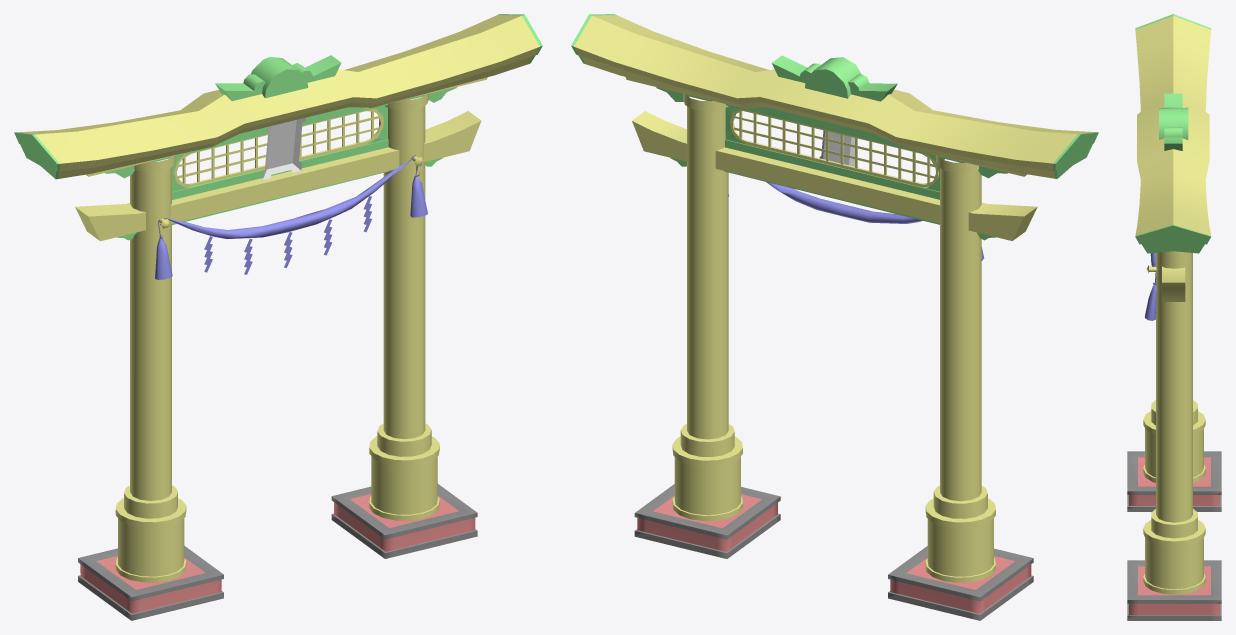
The model's file is SM_ENV_LKNVLD_Torii_Sun_Lod2.gltf.
3 renders of one model, left to right at view 1: azimuth 30°, elevation 25°; view 2: azimuth 150°, elevation 25°; view 3: azimuth 270°, elevation 25°, orthographic. The views are drawn at different scales.
Parts seen in each view (by area): view 1: SM_ENV_LKNVLD_Torii_Sun_Lod2; view 2: SM_ENV_LKNVLD_Torii_Sun_Lod2; view 3: SM_ENV_LKNVLD_Torii_Sun_Lod2.
Boxes of the visible parts, x1,y1,x2,y2 form: SM_ENV_LKNVLD_Torii_Sun_Lod2: [14, 14, 542, 620]; SM_ENV_LKNVLD_Torii_Sun_Lod2: [571, 14, 1098, 620]; SM_ENV_LKNVLD_Torii_Sun_Lod2: [1127, 14, 1221, 620].
Size of the model in its own units: 13.61 by 13.11 by 2.56.
